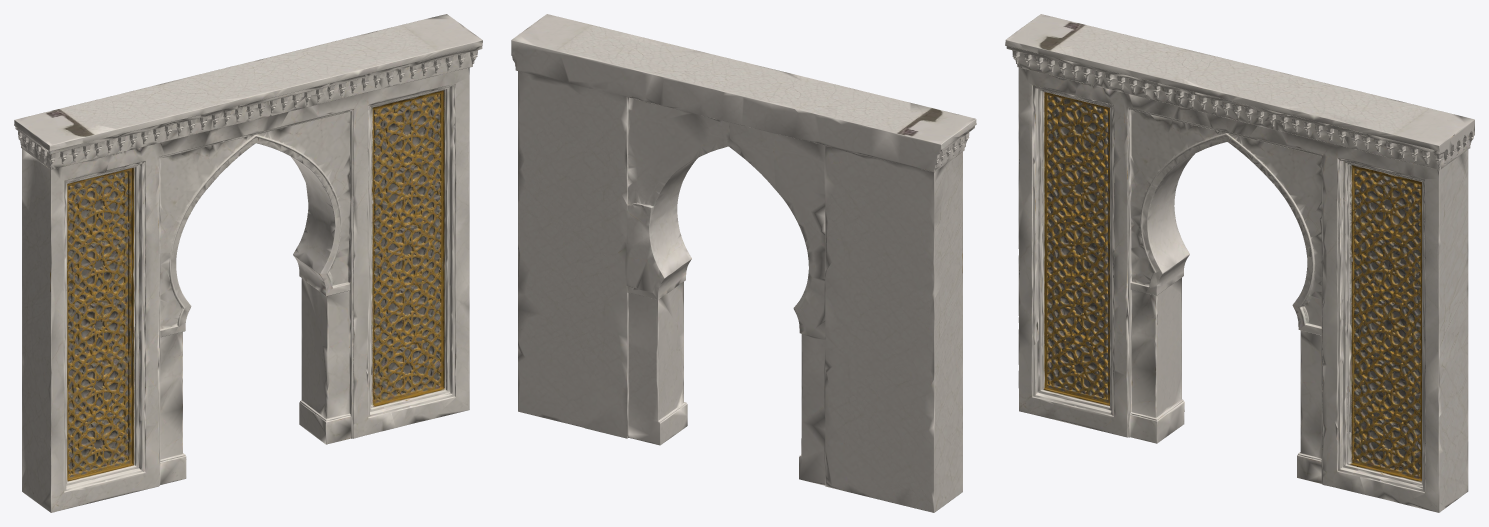
Rendered from hall_arch_wall.glb.
3 views of the same model, side by side, from view 1: azimuth 30°, elevation 25°; view 2: azimuth 150°, elevation 25°; view 3: azimuth 330°, elevation 25° (orthographic).
Visible parts, largest first — view 1: Mesh_0; view 2: Mesh_0; view 3: Mesh_0.
Part boxes in pixels (x1,y1,x2,y2): Mesh_0: (14,14,482,512); Mesh_0: (511,14,976,512); Mesh_0: (1005,14,1474,512).
Bounding box in the file's own units: 9.71 × 8 × 1.41.
Materials: 1 (1 with a texture image).
